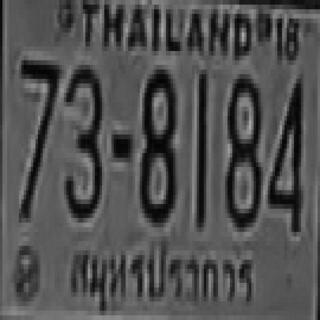N01: (194, 70, 206, 227)
N03: (63, 60, 101, 218)
N04: (267, 76, 302, 230)
N07: (19, 56, 59, 218)
N08: (138, 67, 176, 220), (223, 72, 261, 225)
P57: (67, 233, 259, 319)
